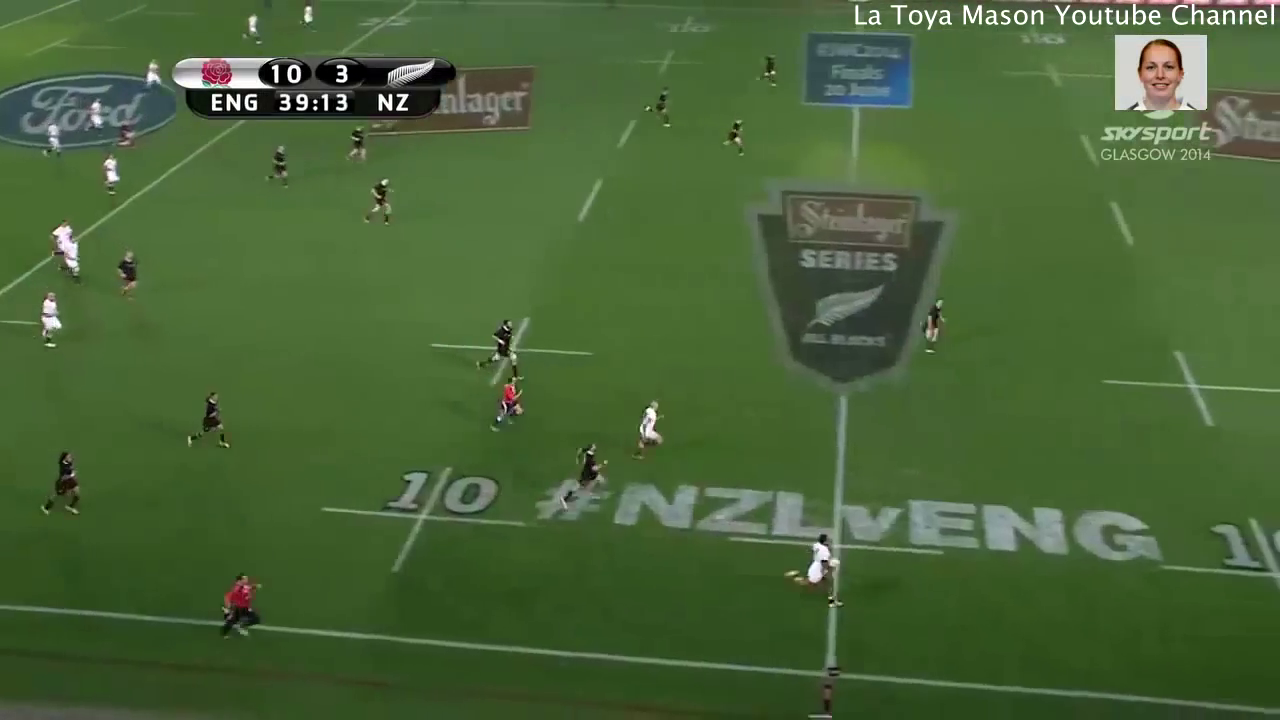10_metre: (317, 464, 536, 571), (1101, 348, 1280, 430), (429, 311, 605, 380), (1156, 512, 1280, 592), (997, 60, 1117, 95), (635, 48, 707, 80), (655, 13, 721, 37), (996, 27, 1081, 44)
player: (782, 526, 846, 612), (546, 436, 605, 515), (473, 314, 530, 384), (33, 448, 86, 523), (625, 396, 669, 466), (481, 372, 529, 434), (186, 392, 229, 453), (31, 287, 69, 355), (913, 296, 949, 359), (360, 176, 400, 232), (640, 84, 678, 134), (260, 139, 293, 192), (718, 109, 749, 163), (57, 232, 85, 285), (113, 247, 140, 299), (749, 50, 781, 92), (99, 150, 125, 201), (343, 123, 370, 170), (240, 6, 266, 48), (109, 118, 140, 153), (41, 120, 68, 160), (141, 56, 166, 96), (48, 216, 70, 247), (89, 99, 106, 133), (297, 3, 317, 31)
